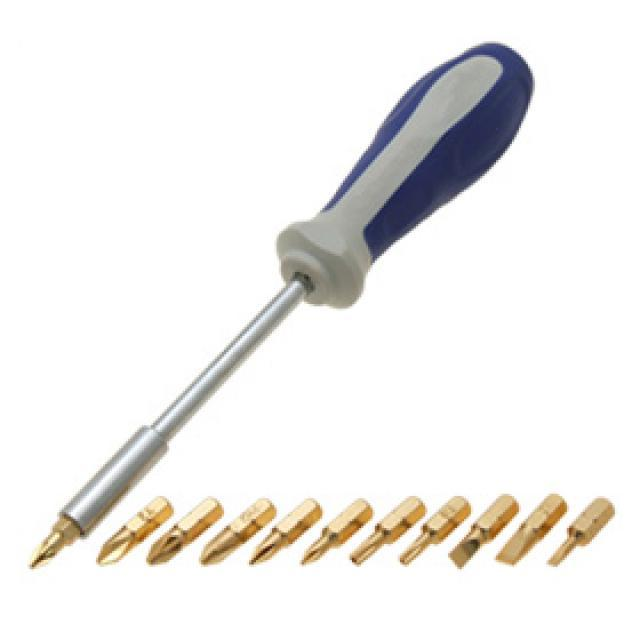screwdriver: (24, 33, 551, 564)
